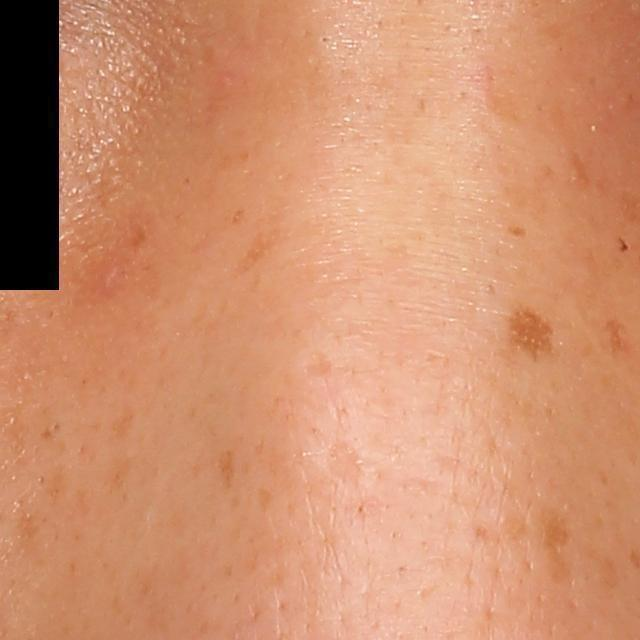atrophic_scar: (325, 438, 364, 496)
melasma: (223, 222, 288, 283), (506, 300, 557, 368), (537, 511, 574, 589), (213, 445, 240, 496), (604, 316, 632, 359), (130, 215, 156, 251), (499, 222, 532, 240), (617, 235, 631, 255)
